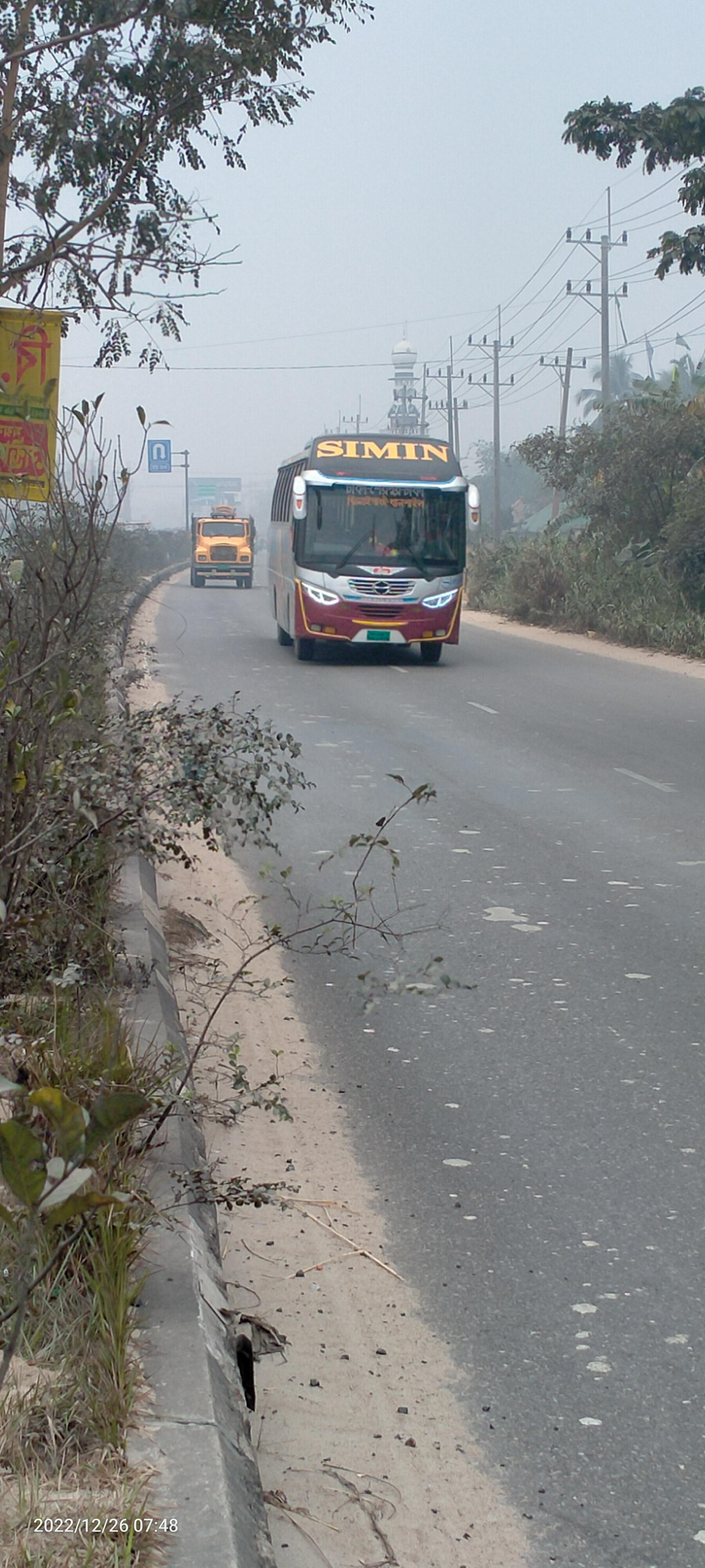Bus: (259, 400, 506, 679)
Truck: (176, 493, 269, 608)
